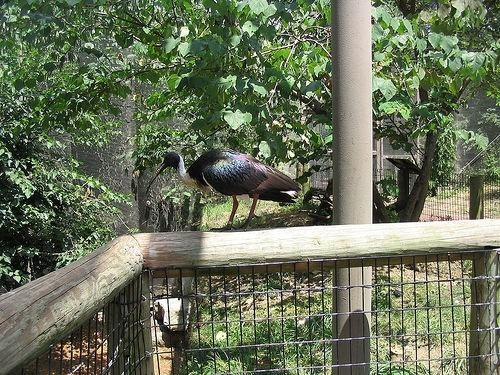bird: (146, 150, 304, 232)
